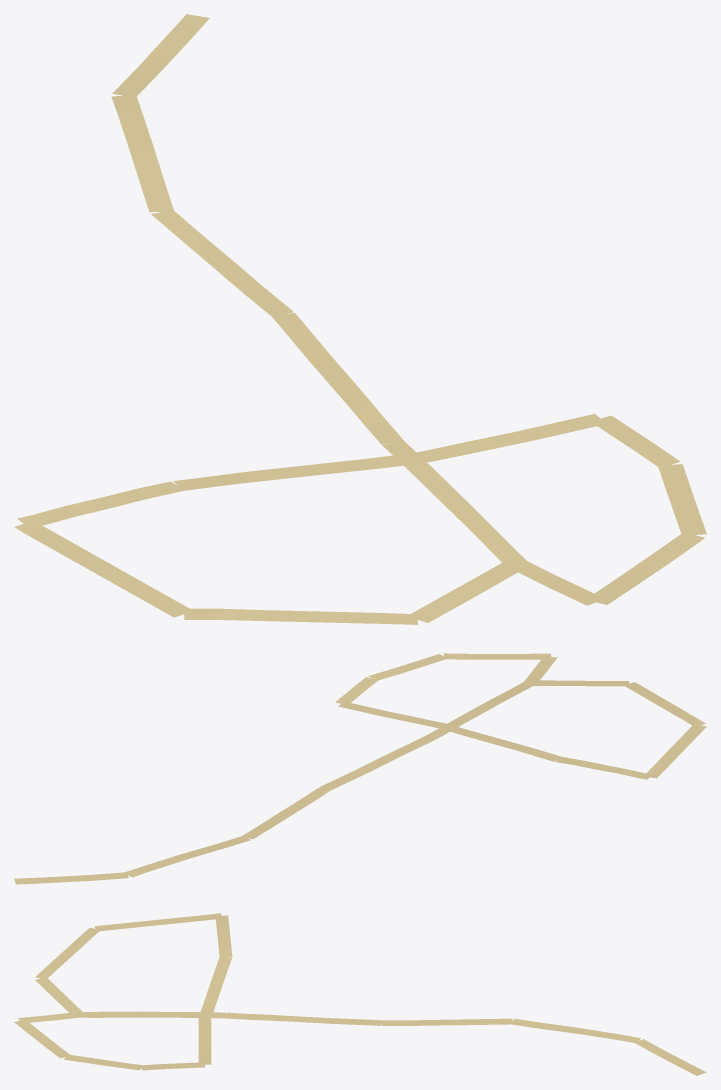
The model's file is Trail_31.glb.
3 views of the same model, one above another, from view 1: azimuth 30°, elevation 25°; view 2: azimuth 150°, elevation 25°; view 3: azimuth 270°, elevation 25° (orthographic). The views are drawn at different scales.
Parts seen in each view (by area): view 1: Trail_31; view 2: Trail_31; view 3: Trail_31.
Part boxes in pixels (x1,y1,x2,y2): Trail_31: (14, 14, 706, 624); Trail_31: (14, 653, 706, 884); Trail_31: (14, 913, 706, 1075).
Size of the model in its own units: 53.24 by 2.3 by 94.62.
